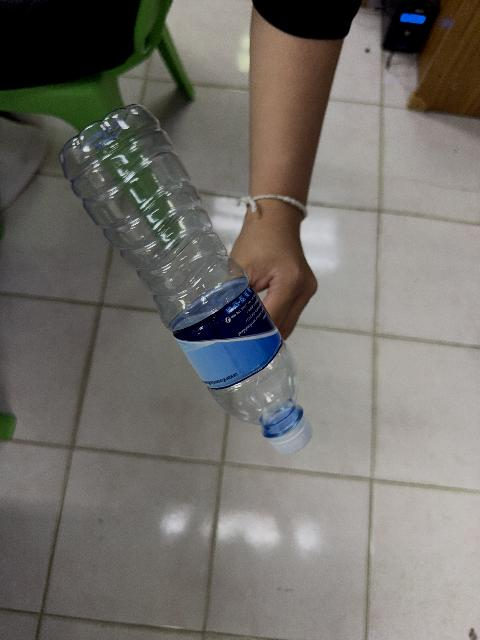bottle: (59, 106, 310, 453)
